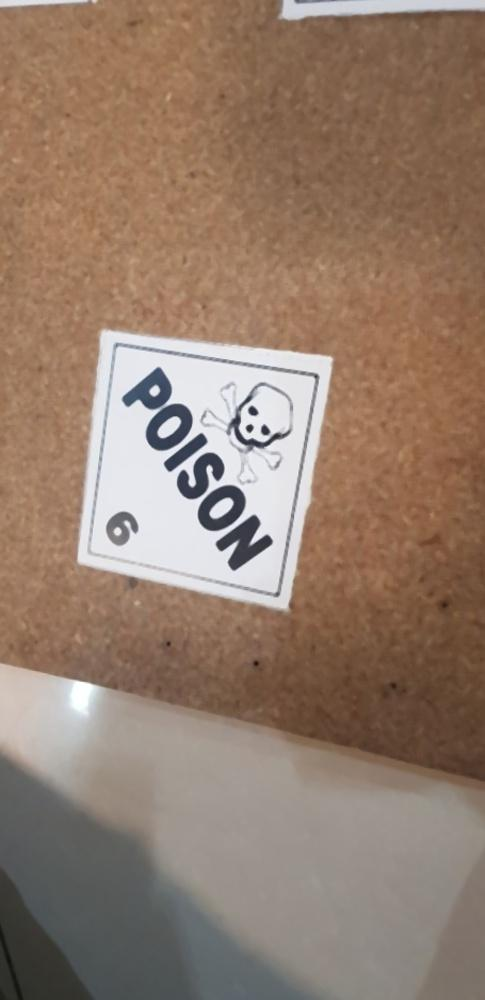poison: (72, 310, 336, 630)
